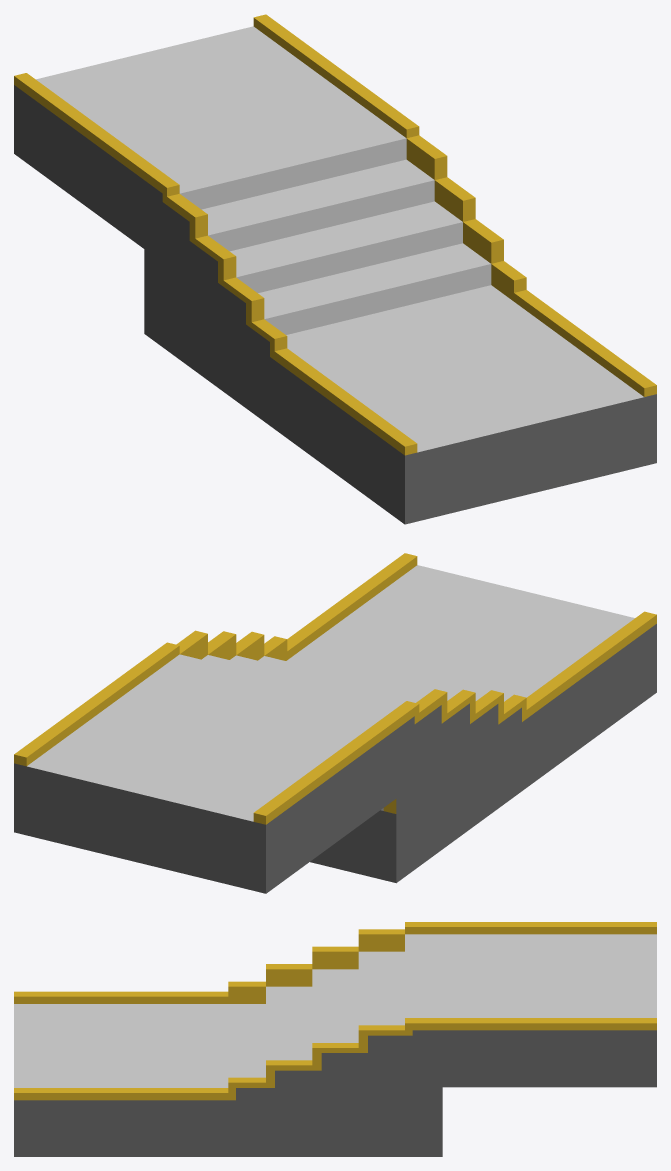
File: Platform_Stairs.fbx
The picture shows the model from 3 angles, top to bottom: view 1: azimuth 30°, elevation 25°; view 2: azimuth 150°, elevation 25°; view 3: azimuth 270°, elevation 25°; orthographic projection. The views are drawn at different scales.
Parts seen in each view (by area): view 1: Platform_Stairs; view 2: Platform_Stairs; view 3: Platform_Stairs.
Part boxes in pixels (left/top/right/bottom): Platform_Stairs: left=14, top=14, right=656, bottom=524; Platform_Stairs: left=14, top=553, right=656, bottom=893; Platform_Stairs: left=14, top=922, right=656, bottom=1156.
Size of the model in its own units: 1192 by 735 by 3202.
